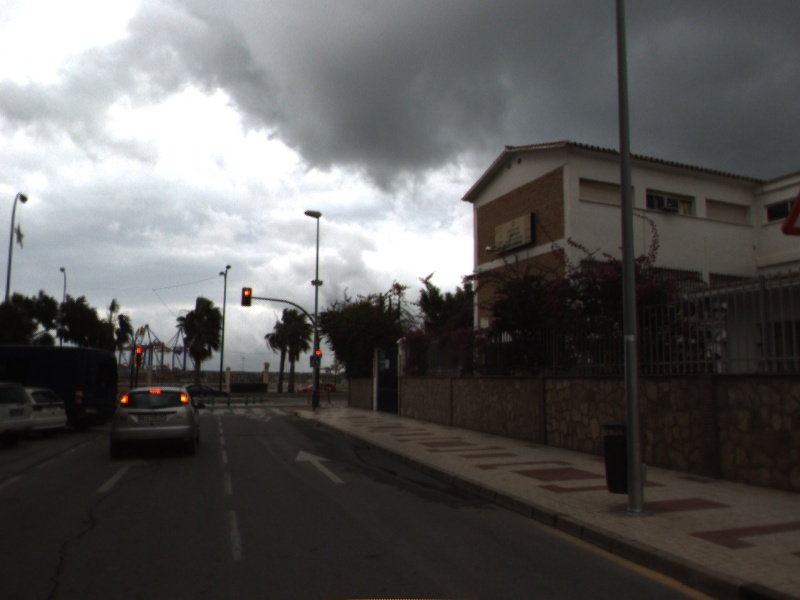STRAIGHT: (92, 456, 152, 495), (293, 447, 348, 486)
